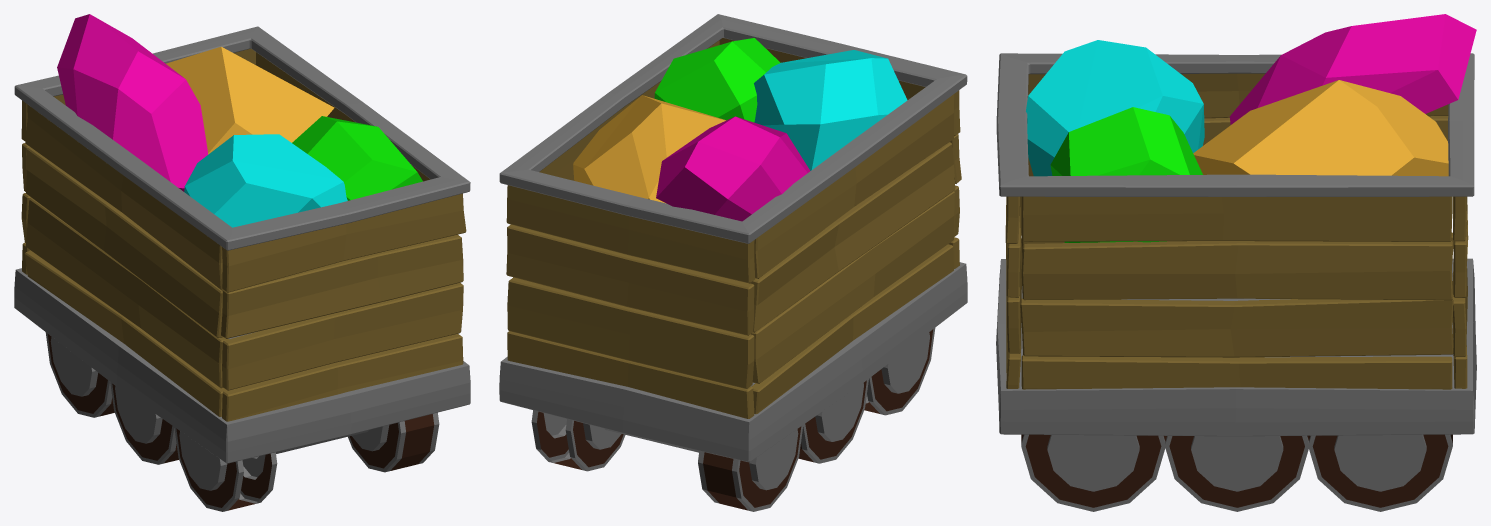
The model's file is minecart.gltf.
3 renders of one model, left to right at view 1: azimuth 30°, elevation 25°; view 2: azimuth 150°, elevation 25°; view 3: azimuth 270°, elevation 25°, orthographic. The views are drawn at different scales.
Visible parts, largest first — view 1: waggon, Cube.003, Waggon_Wheels, Cube.001, Cube, Cube.002; view 2: waggon, Waggon_Wheels, Cube.001, Cube.003, Cube, Cube.002; view 3: waggon, Waggon_Wheels, Cube, Cube.003, Cube.001, Cube.002.
Part boxes in pixels (x1,y1,x2,y2): waggon: (14, 26, 470, 463); Cube.003: (57, 14, 208, 191); Waggon_Wheels: (45, 332, 439, 511); Cube.001: (184, 134, 347, 227); Cube: (166, 46, 334, 154); Cube.002: (292, 116, 422, 200); waggon: (499, 14, 967, 462); Waggon_Wheels: (531, 328, 935, 511); Cube.001: (754, 50, 907, 170); Cube.003: (656, 116, 810, 221); Cube: (573, 95, 725, 203); Cube.002: (654, 38, 780, 122); waggon: (996, 53, 1476, 436); Waggon_Wheels: (1021, 434, 1452, 511); Cube: (1193, 80, 1448, 176); Cube.003: (1229, 14, 1476, 124); Cube.001: (1026, 40, 1204, 176); Cube.002: (1050, 107, 1202, 242).
Bounding box in the file's own units: 22.27 × 31.35 × 33.23.
